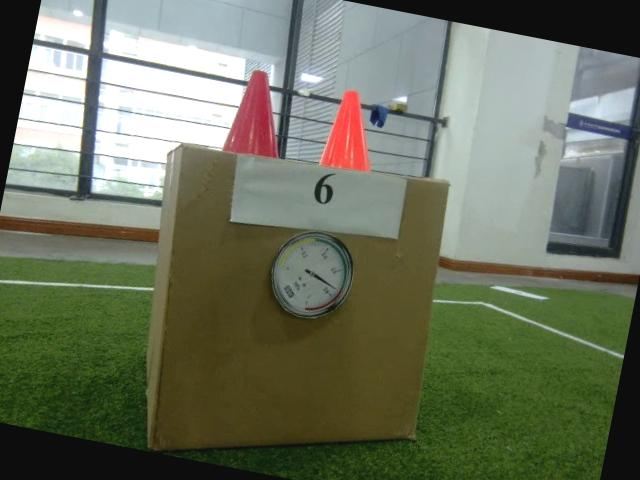6: (312, 168, 338, 206)
Dashboard: (262, 223, 361, 326)
orange_barrel: (317, 86, 386, 174)
red_barrel: (220, 66, 296, 161)
ssi: (282, 284, 296, 298)
